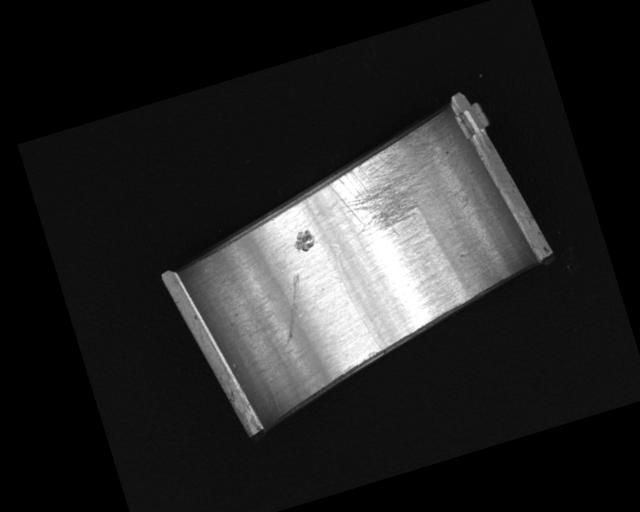bruise: (290, 228, 317, 254)
nick: (330, 241, 383, 357), (267, 273, 317, 345)
scratch: (318, 127, 449, 250)
